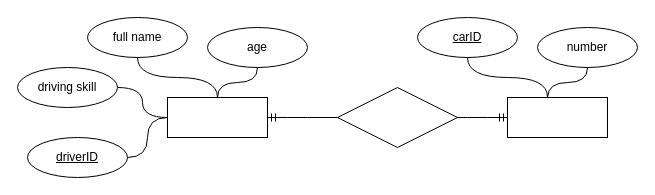
The diagram is 655 pixels wide and 195 high, and some of its shapes have lost their labels. The shapes that lost their labels are listed below. From the top down, each one's centre as x and y in pixels, then its label:
At point (217, 117): "Driver".
At point (397, 117): "Drive".
At point (557, 117): "Car".
